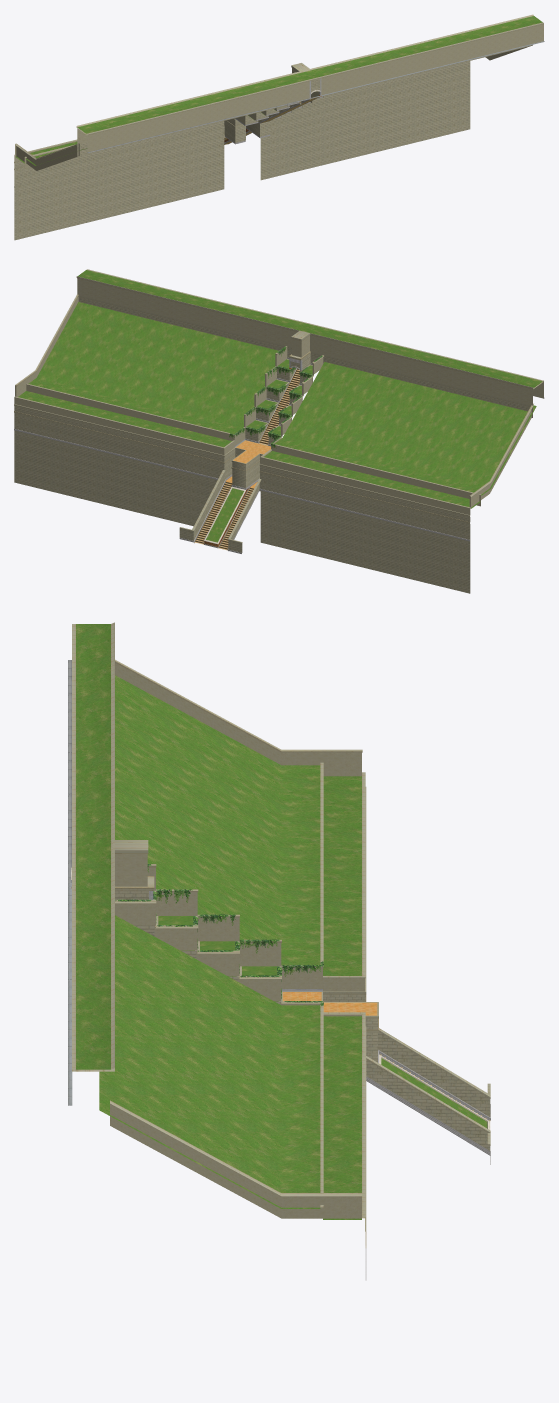
File: DoubleStaircase.obj
The picture shows the model from 3 angles, top to bottom: view 1: azimuth 30°, elevation 25°; view 2: azimuth 150°, elevation 25°; view 3: azimuth 270°, elevation 25°; orthographic projection. The views are drawn at different scales.
Visible parts, largest first — view 1: ct2_03_n5_stairside_01; view 2: ct2_03_n5_stairside_01; view 3: ct2_03_n5_stairside_01.
Part boxes in pixels (x1=…): ct2_03_n5_stairside_01: x1=14, y1=14, x2=544, y2=240; ct2_03_n5_stairside_01: x1=14, y1=269, x2=544, y2=593; ct2_03_n5_stairside_01: x1=68, y1=622, x2=490, y2=1280.
Bounding box in the file's own units: 189 × 63.49 × 75.85.
